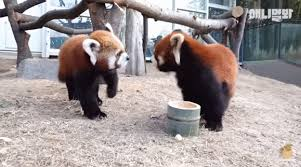redPanda: (45, 20, 133, 128)
